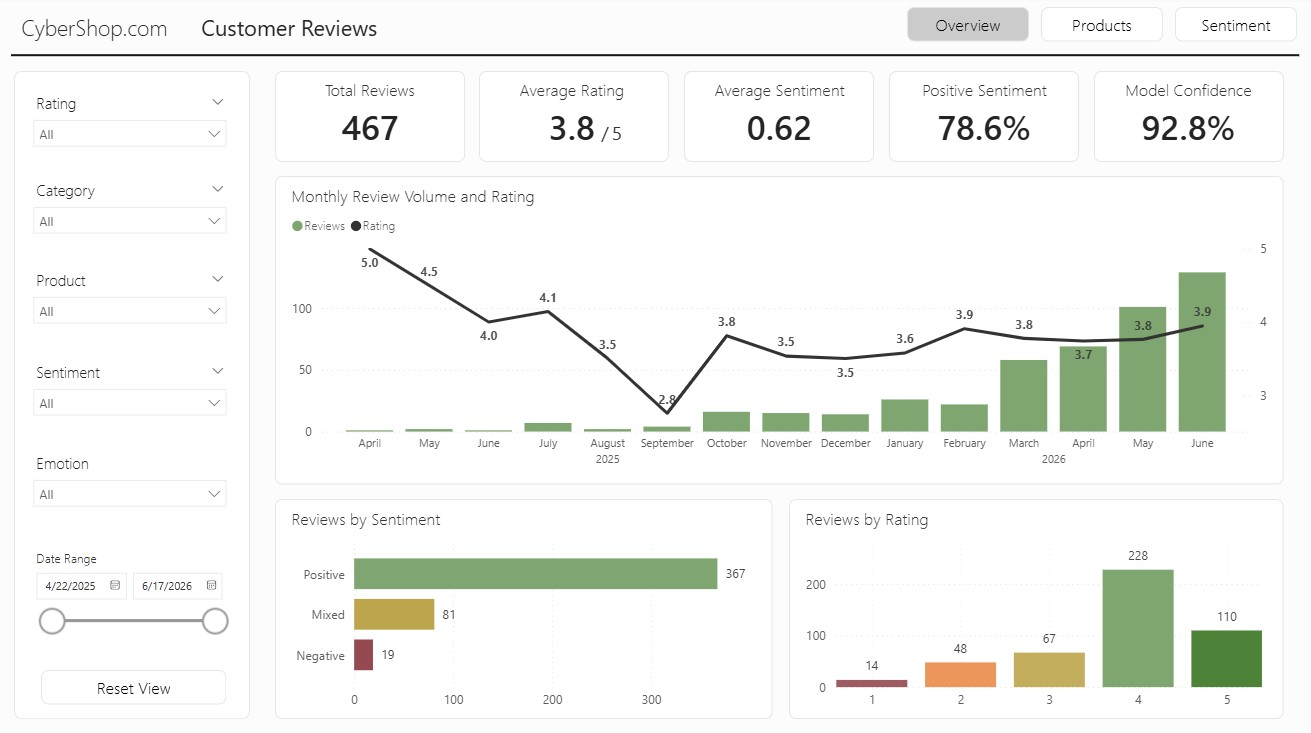

This screenshot's page, from the dashboard's own definition file:
{"tool":"powerbi","page":{"name":"Overview","canvas":[1280,720],"ordinal":0},"visuals":[{"type":"shape","box":[13.6,46.2,1253.2,21.8],"z":0},{"type":"textbox","box":[18.5,10.7,485.3,46.7],"z":1000},{"type":"shape","box":[16.5,72.9,229.5,630.3],"z":2000},{"type":"slicer","fields":{"Values":["reviews_analyzed.category"]},"box":[25.3,173.1,208.1,74.9],"z":3000},{"type":"slicer","fields":{"Values":["reviews_analyzed.product"]},"box":[25.3,260.7,208.1,74.9],"z":4000},{"type":"slicer","fields":{"Values":["reviews_analyzed.sentiment_category"]},"box":[25.3,350.2,208.1,74.9],"z":5000},{"type":"shape","box":[270.4,72.9,185,88.5],"z":6000},{"type":"card","title":"Total Reviews","fields":{"Values":["reviews_analyzed.Total Review Count 2"]},"box":[270.4,80.7,184.8,76.8],"z":7000},{"type":"slicer","fields":{"Values":["reviews_analyzed.date"]},"box":[25.3,533,208.1,108.9],"z":8000},{"type":"lineClusteredColumnComboChart","title":"Monthly Review Volume and Rating","fields":{"Y":["CountNonNull(reviews_analyzed.id)"],"Category":["reviews_analyzed.date.Variation.Date Hierarchy.Year","reviews_analyzed.date.Variation.Date Hierarchy.Month","reviews_analyzed.date.Variation.Date Hierarchy.Day"],"Y2":["Avg(reviews_analyzed.rating)"]},"box":[270.4,175.1,981.4,299.6],"z":9000},{"type":"shape","title":"ttt","box":[1145.3,10.9,118.8,33.6],"z":11000},{"type":"shape","title":"ttt","box":[1015.6,10.9,118.8,33.6],"z":12000},{"type":"shape","title":"ttt","box":[885,10.9,118.8,33.6],"z":13000},{"type":"shape","title":"ttt","box":[42.9,655.1,180.5,33.6],"z":14000},{"type":"clusteredBarChart","title":"Reviews by Sentiment","fields":{"Y":["CountNonNull(reviews_analyzed.id)"],"Category":["reviews_analyzed.sentiment_category"]},"box":[270.4,489.2,484,214],"z":15000},{"type":"slicer","fields":{"Values":["reviews_analyzed.emotion"]},"box":[25.3,438.7,208.1,74.9],"z":16000},{"type":"clusteredColumnChart","title":"Reviews by Rating","fields":{"Category":["reviews_analyzed.rating"],"Y":["CountNonNull(reviews_analyzed.id)"]},"box":[770.3,489.2,481.5,214],"z":17000},{"type":"shape","box":[468.8,72.9,184.8,88.5],"z":18000},{"type":"shape","box":[668.2,72.9,184.8,88.5],"z":19000},{"type":"shape","box":[867.6,72.9,184.8,88.5],"z":20000},{"type":"shape","box":[1067,72.9,184.8,88.5],"z":21000},{"type":"card","title":"Average Sentiment","fields":{"Values":["Avg(reviews_analyzed.sentiment)"]},"box":[669.2,80.7,183.8,76.8],"z":22000},{"type":"card","title":"Average Rating","fields":{"Values":["Avg(reviews_analyzed.rating)"]},"box":[468.8,80.7,184.8,76.8],"z":23000},{"type":"slicer","fields":{"Values":["reviews_analyzed.rating"]},"box":[25.3,88.5,208.1,74.9],"z":24000},{"type":"card","title":"Positive Sentiment","fields":{"Values":["reviews_analyzed.Positive %"]},"box":[868.6,80.7,183.8,76.8],"z":25000},{"type":"textbox","box":[582.6,114.8,83.6,45.7],"z":26000},{"type":"card","title":"Model Confidence","fields":{"Values":["Avg(reviews_analyzed.confidence)"]},"box":[1067,80.7,183.8,76.8],"z":27000}]}

Visuals, with their boxes in screenshot pixels (x1, y1, x2, y2), scaled from the page's 1280x720 canvas onto the 1311x733 screenshot:
shape: [x1=14, y1=47, x2=1297, y2=69]
textbox: [x1=19, y1=11, x2=516, y2=58]
shape: [x1=17, y1=74, x2=252, y2=716]
slicer - reviews_analyzed.category: [x1=26, y1=176, x2=239, y2=252]
slicer - reviews_analyzed.product: [x1=26, y1=265, x2=239, y2=342]
slicer - reviews_analyzed.sentiment_category: [x1=26, y1=357, x2=239, y2=433]
shape: [x1=277, y1=74, x2=466, y2=164]
"Total Reviews" card: [x1=277, y1=82, x2=466, y2=160]
slicer - reviews_analyzed.date: [x1=26, y1=543, x2=239, y2=653]
"Monthly Review Volume and Rating" lineClusteredColumnComboChart: [x1=277, y1=178, x2=1282, y2=483]
"ttt" shape: [x1=1173, y1=11, x2=1295, y2=45]
"ttt" shape: [x1=1040, y1=11, x2=1162, y2=45]
"ttt" shape: [x1=906, y1=11, x2=1028, y2=45]
"ttt" shape: [x1=44, y1=667, x2=229, y2=701]
"Reviews by Sentiment" clusteredBarChart: [x1=277, y1=498, x2=773, y2=716]
slicer - reviews_analyzed.emotion: [x1=26, y1=447, x2=239, y2=523]
"Reviews by Rating" clusteredColumnChart: [x1=789, y1=498, x2=1282, y2=716]
shape: [x1=480, y1=74, x2=669, y2=164]
shape: [x1=684, y1=74, x2=874, y2=164]
shape: [x1=889, y1=74, x2=1078, y2=164]
shape: [x1=1093, y1=74, x2=1282, y2=164]
"Average Sentiment" card: [x1=685, y1=82, x2=874, y2=160]
"Average Rating" card: [x1=480, y1=82, x2=669, y2=160]
slicer - reviews_analyzed.rating: [x1=26, y1=90, x2=239, y2=166]
"Positive Sentiment" card: [x1=890, y1=82, x2=1078, y2=160]
textbox: [x1=597, y1=117, x2=682, y2=163]
"Model Confidence" card: [x1=1093, y1=82, x2=1281, y2=160]
